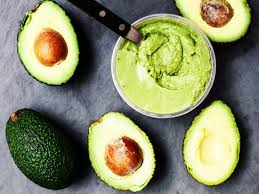aguacate: (3, 109, 85, 191)
